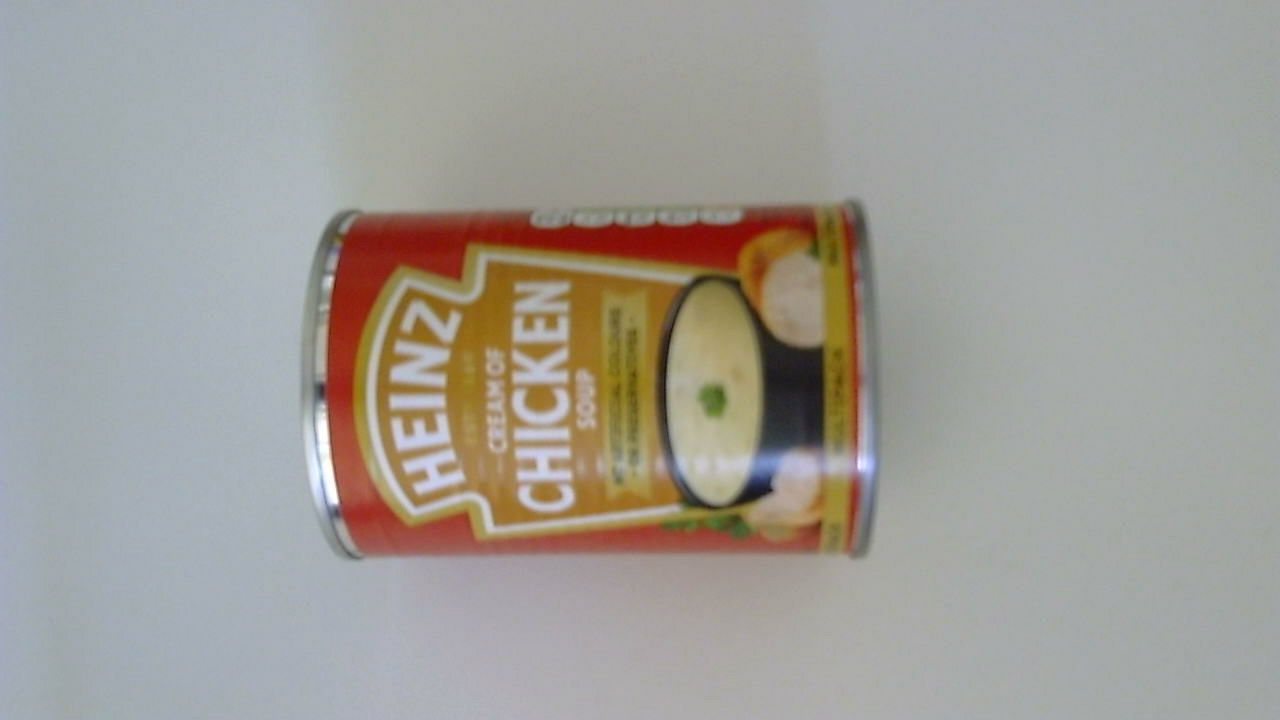Metal Tin: (298, 201, 896, 571)
